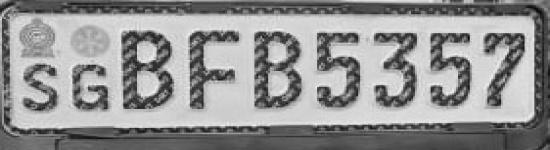3: (366, 26, 422, 112)
5: (424, 25, 479, 115), (314, 27, 366, 117), (480, 27, 528, 113)
B: (250, 27, 308, 120), (118, 27, 178, 114)
F: (185, 26, 244, 115)
G: (67, 60, 114, 114)
S: (17, 61, 64, 116)
